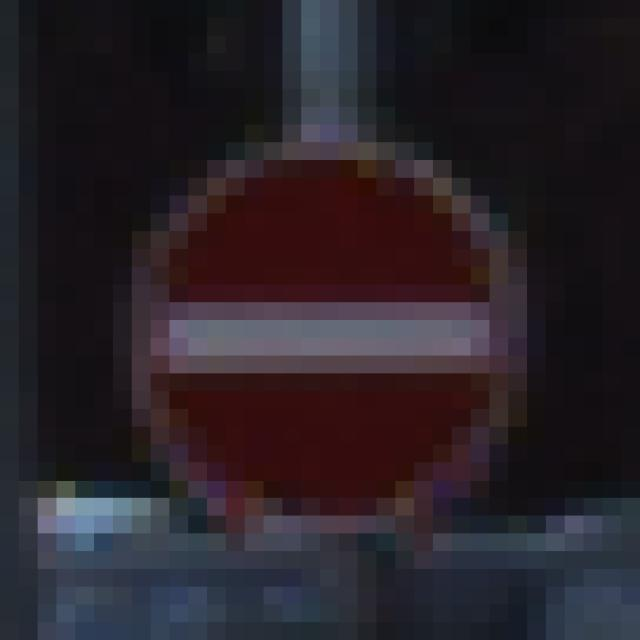No Entry: (114, 108, 547, 552)
